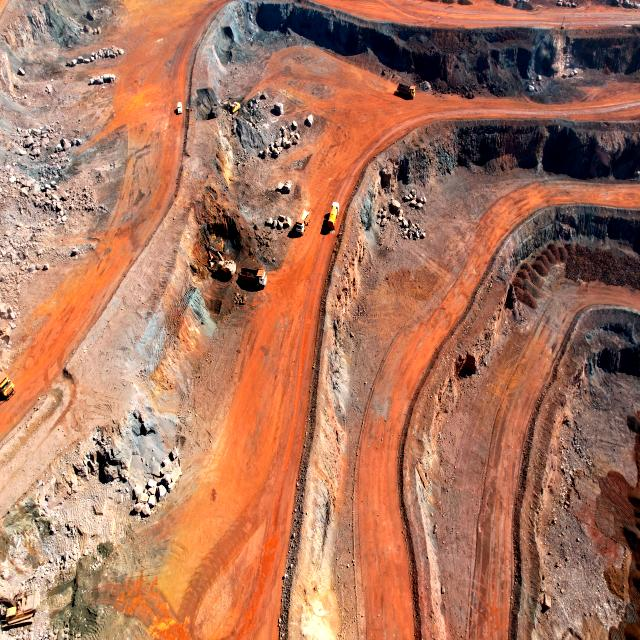Dumper truck: (240, 269, 266, 289), (0, 372, 15, 400), (398, 84, 416, 98), (296, 213, 308, 234), (398, 85, 416, 98), (300, 210, 310, 233)
Excavator: (0, 587, 35, 632), (203, 239, 236, 283), (220, 99, 242, 115)
car: (174, 102, 184, 114)
